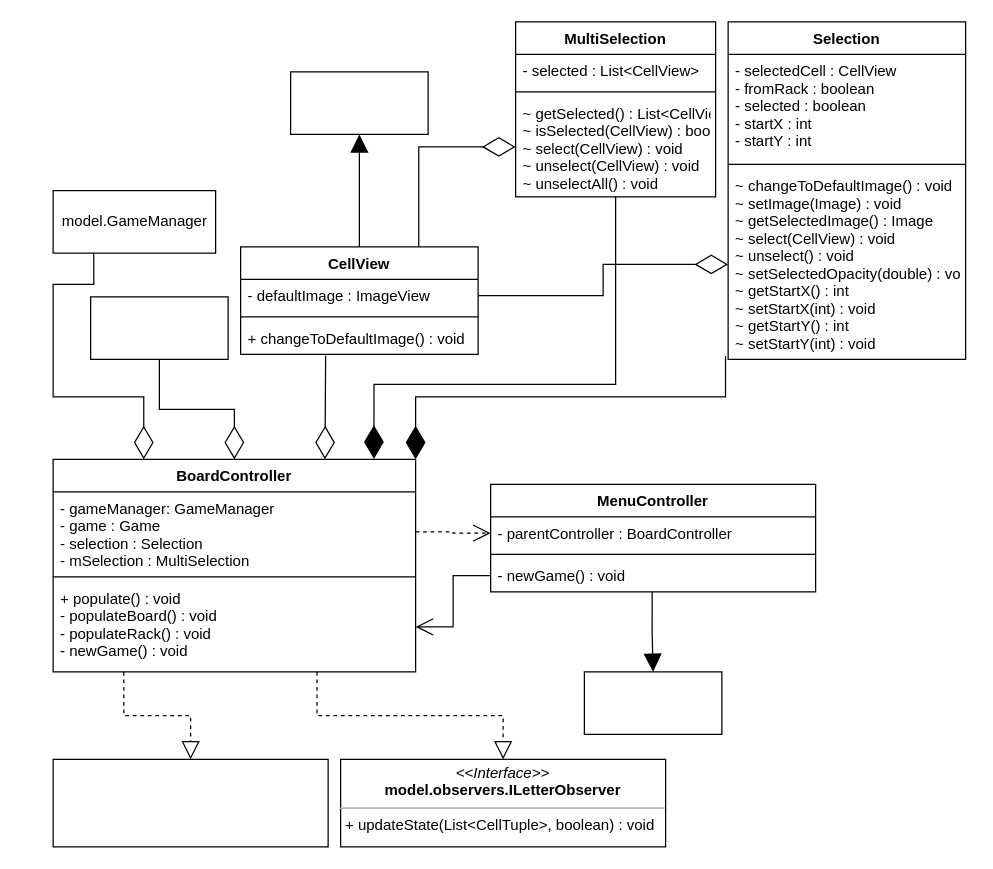
The diagram is 993 pixels wide and 869 high, and some of its shapes have lost their labels. Each missing label, with the centre of its shape:
"<<Interface>> Initializable + initialize(Url, ResourceBundle) : void" belongs at point 190,802.
"AnchorPane" belongs at point 652,702.
"ImageView" belongs at point 358,102.
"model.Game" belongs at point 158,327.
